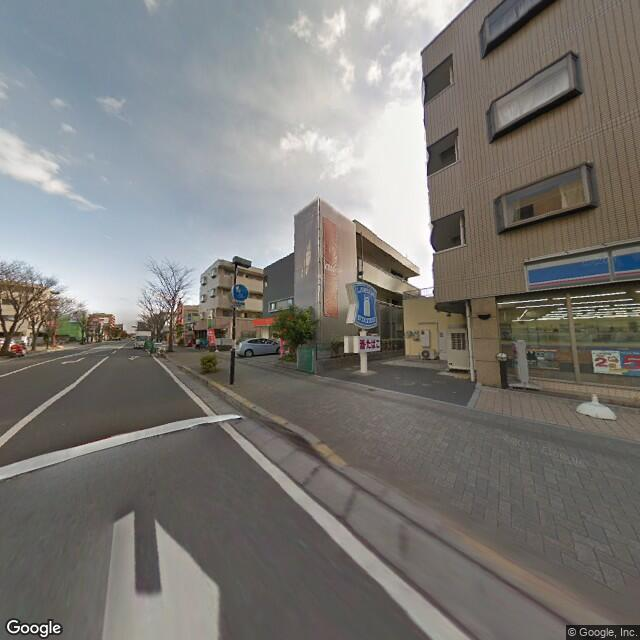lawson: (527, 237, 639, 298), (351, 276, 379, 333)
